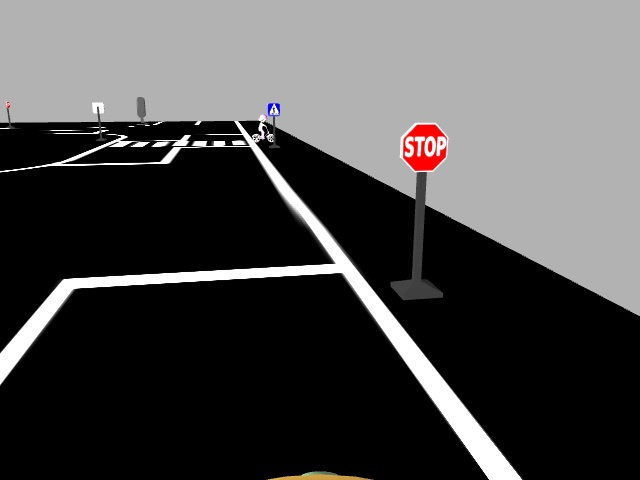Stop: (395, 121, 450, 173)
